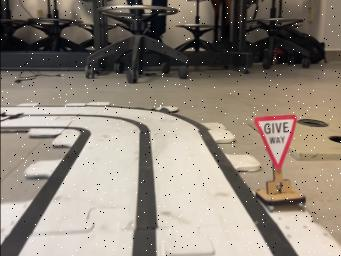give_way: (254, 114, 305, 211), (254, 114, 305, 211), (254, 114, 305, 211), (254, 114, 305, 211), (254, 114, 305, 211), (254, 114, 305, 211)
street: (0, 104, 298, 256), (0, 104, 298, 256), (0, 104, 298, 256), (0, 104, 298, 256), (0, 104, 298, 256), (0, 104, 298, 256)
